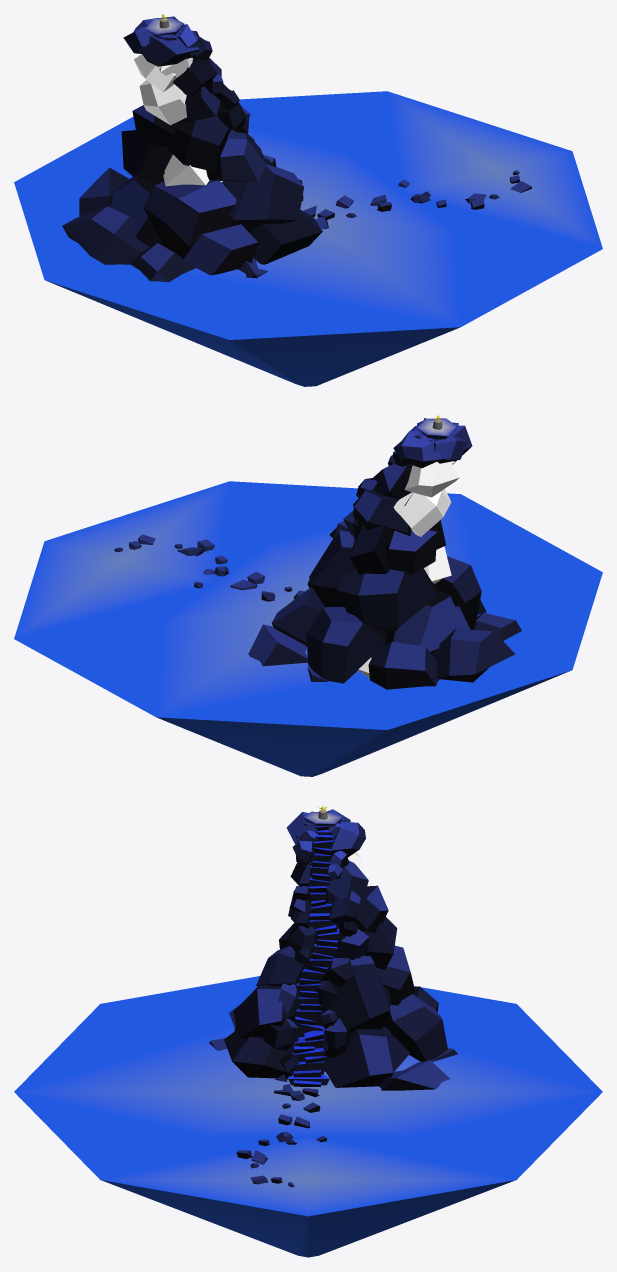
The model's file is Cave of Wonders.fbx.
The picture shows the model from 3 angles, top to bottom: view 1: azimuth 30°, elevation 25°; view 2: azimuth 150°, elevation 25°; view 3: azimuth 270°, elevation 25°; orthographic projection. The views are drawn at different scales.
Visible parts, largest first — view 1: pCone3, pPlatonic32, pPlatonic13, pPlatonic11, pPlatonic8, pPlatonic18, pPlatonic6, pPlatonic15, pPlatonic7, pPlatonic16, pPlatonic81, pPlatonic34 (+8 smaller); view 2: pCone3, pPlatonic16, pPlatonic9, pPlatonic11, pPlatonic10, pPlatonic7, pPlatonic12, pPlatonic33, pPlatonic32, pPlatonic82, pPlatonic20, pPlatonic34 (+9 smaller); view 3: pCone3, pPlane2, pPlatonic5, pPlatonic12, pPlatonic9, pPlatonic13, pPlatonic6, pPlatonic82, pPlatonic16, pPlatonic15, pPlatonic20, pPlatonic17 (+7 smaller).
Part boxes in pixels (bbox=[...]): pCone3: bbox=[14, 91, 602, 386]; pPlatonic32: bbox=[143, 180, 236, 258]; pPlatonic13: bbox=[221, 164, 303, 231]; pPlatonic11: bbox=[62, 206, 149, 264]; pPlatonic8: bbox=[182, 224, 259, 275]; pPlatonic18: bbox=[164, 115, 230, 171]; pPlatonic6: bbox=[236, 210, 322, 264]; pPlatonic15: bbox=[206, 130, 266, 182]; pPlatonic7: bbox=[110, 174, 164, 247]; pPlatonic16: bbox=[121, 130, 172, 184]; pPlatonic81: bbox=[130, 243, 195, 282]; pPlatonic34: bbox=[139, 80, 187, 125]; pCone3: bbox=[14, 481, 602, 776]; pPlatonic16: bbox=[337, 568, 438, 632]; pPlatonic9: bbox=[306, 607, 386, 683]; pPlatonic11: bbox=[431, 629, 515, 682]; pPlatonic10: bbox=[368, 642, 439, 689]; pPlatonic7: bbox=[371, 591, 470, 657]; pPlatonic12: bbox=[309, 530, 356, 607]; pPlatonic33: bbox=[385, 525, 440, 575]; pPlatonic32: bbox=[434, 556, 481, 624]; pPlatonic82: bbox=[248, 624, 307, 666]; pPlatonic20: bbox=[352, 489, 411, 536]; pPlatonic34: bbox=[393, 489, 451, 536]; pCone3: bbox=[14, 976, 602, 1257]; pPlane2: bbox=[288, 830, 341, 1086]; pPlatonic5: bbox=[324, 1027, 410, 1087]; pPlatonic12: bbox=[321, 955, 390, 1033]; pPlatonic9: bbox=[383, 994, 447, 1061]; pPlatonic13: bbox=[233, 985, 296, 1037]; pPlatonic6: bbox=[224, 1030, 293, 1078]; pPlatonic82: bbox=[378, 1060, 450, 1090]; pPlatonic16: bbox=[376, 945, 415, 1005]; pPlatonic15: bbox=[256, 946, 307, 986]; pPlatonic20: bbox=[336, 885, 388, 933]; pPlatonic17: bbox=[362, 917, 397, 969].
Size of the model in its own units: 25.32 by 18.08 by 25.32.
